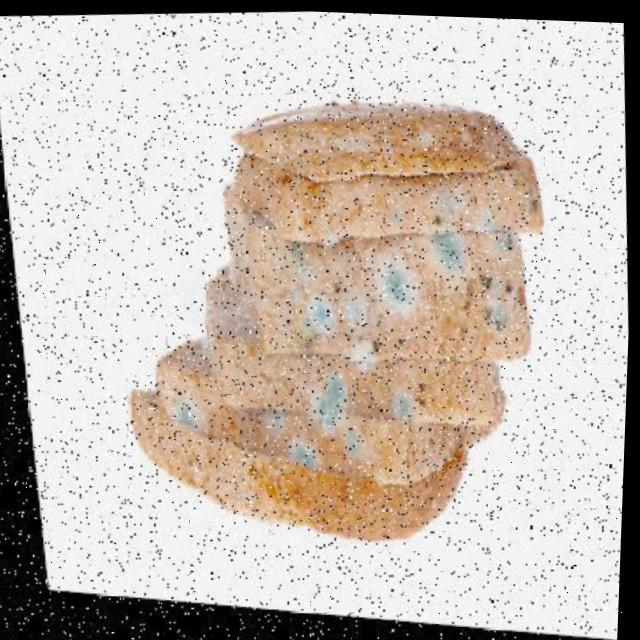Wet: (85, 89, 554, 570)
